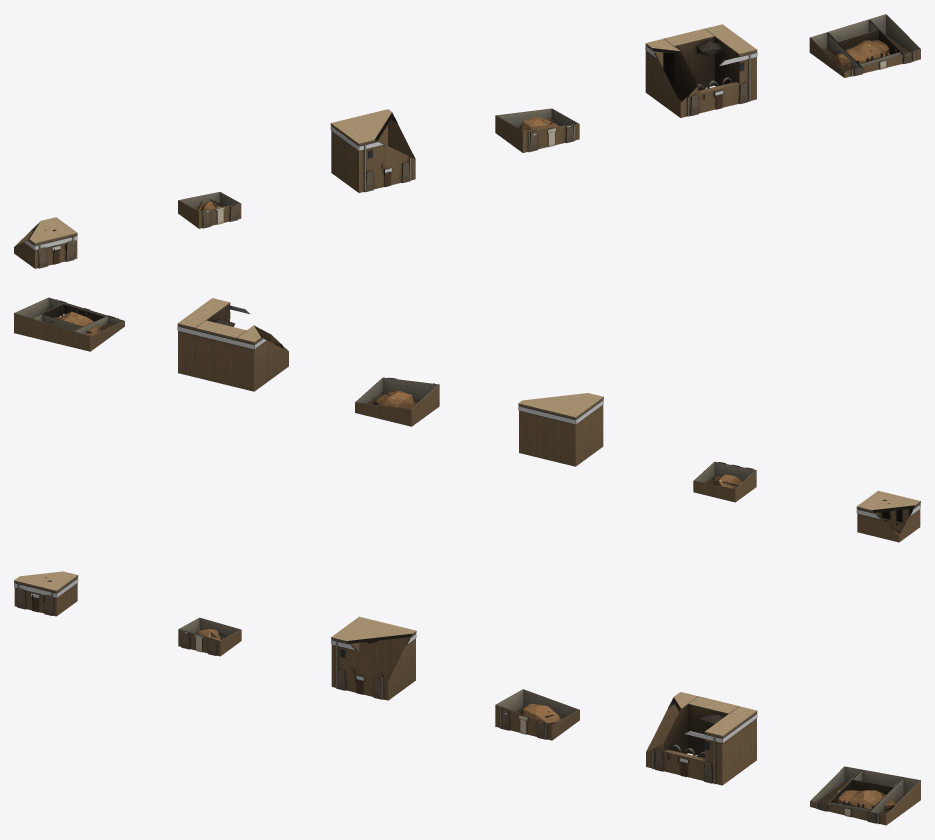
File: kingdoms-maghreb-houses-damage.glb
3 renders of one model, top to bottom at view 1: azimuth 30°, elevation 25°; view 2: azimuth 150°, elevation 25°; view 3: azimuth 330°, elevation 25°, orthographic.
Visible parts, largest first — view 1: LOD0.004, LOD0.002, LOD0.005, LOD0.003, LOD0, LOD0.001; view 2: LOD0.004, LOD0.002, LOD0.005, LOD0.003, LOD0, LOD0.001; view 3: LOD0.004, LOD0.002, LOD0.005, LOD0.003, LOD0, LOD0.001.
Part boxes in pixels (x1,y1,x2,y2): LOD0.004: (645, 24, 757, 117); LOD0.002: (330, 109, 415, 192); LOD0.005: (809, 14, 920, 77); LOD0.003: (495, 108, 579, 152); LOD0: (14, 217, 77, 268); LOD0.001: (178, 192, 241, 228); LOD0.004: (177, 298, 288, 391); LOD0.002: (518, 393, 603, 466); LOD0.005: (14, 297, 124, 351); LOD0.003: (355, 377, 439, 426); LOD0: (856, 490, 920, 542); LOD0.001: (693, 461, 756, 502); LOD0.004: (646, 692, 757, 785); LOD0.002: (331, 616, 416, 700); LOD0.005: (810, 766, 920, 825); LOD0.003: (495, 689, 579, 740); LOD0: (14, 571, 78, 616); LOD0.001: (178, 617, 241, 656).
Size of what is drawn, in the model's own units: 16.1 by 0.8775 by 1.13.
2 materials, 2 textured.
